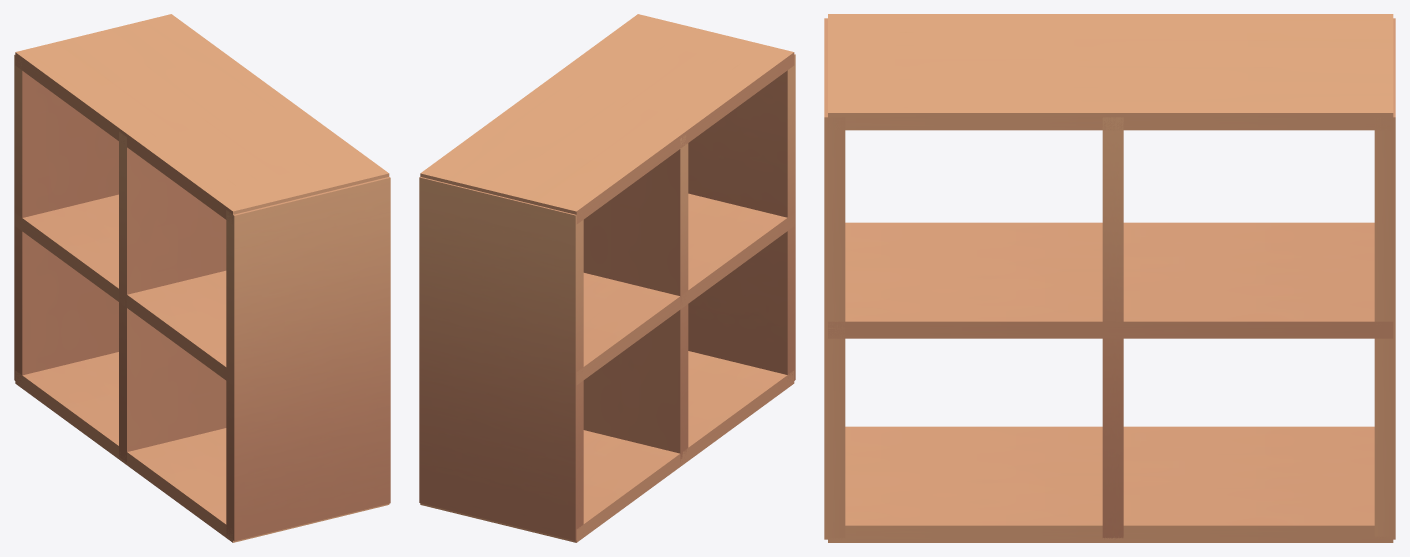
The model's file is Cabnit1.glb.
3 renders of one model, left to right at view 1: azimuth 30°, elevation 25°; view 2: azimuth 150°, elevation 25°; view 3: azimuth 270°, elevation 25°, orthographic. The views are drawn at different scales.
Visible parts, largest first — view 1: BoxCabnit2; view 2: BoxCabnit2; view 3: BoxCabnit2.
Boxes of the visible parts, x1,y1,x2,y2 form: BoxCabnit2: (14, 14, 390, 542); BoxCabnit2: (419, 14, 795, 542); BoxCabnit2: (824, 14, 1395, 542).
Size of the model in its own units: 0.3306 by 0.67 by 0.8064.
Materials: 1 (1 with a texture image).
